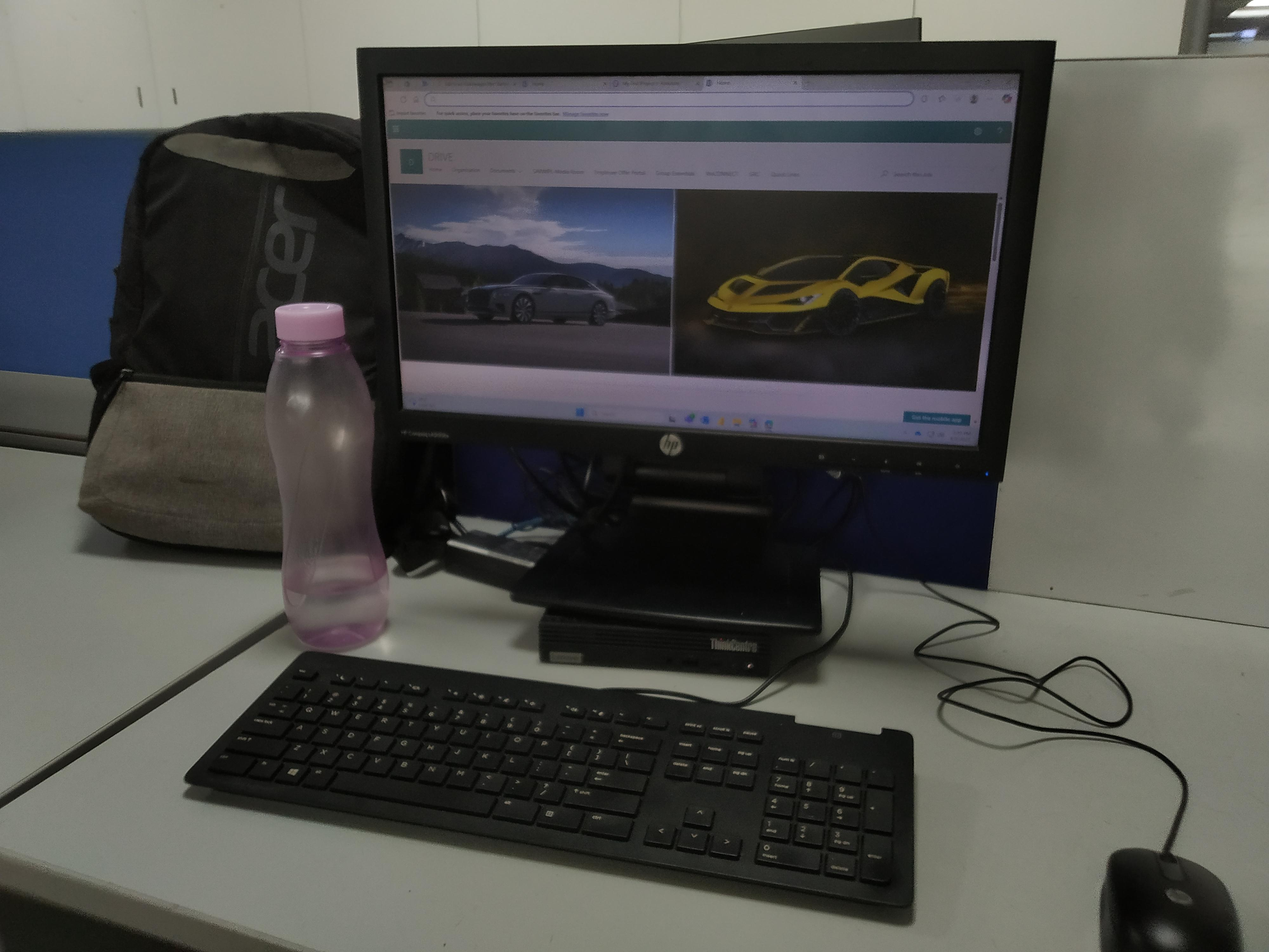bag: (67, 105, 382, 560)
bottle: (250, 285, 411, 657)
desktop: (348, 32, 1068, 641)
keyboard: (150, 642, 924, 938)
mouse: (1088, 840, 1252, 952)
